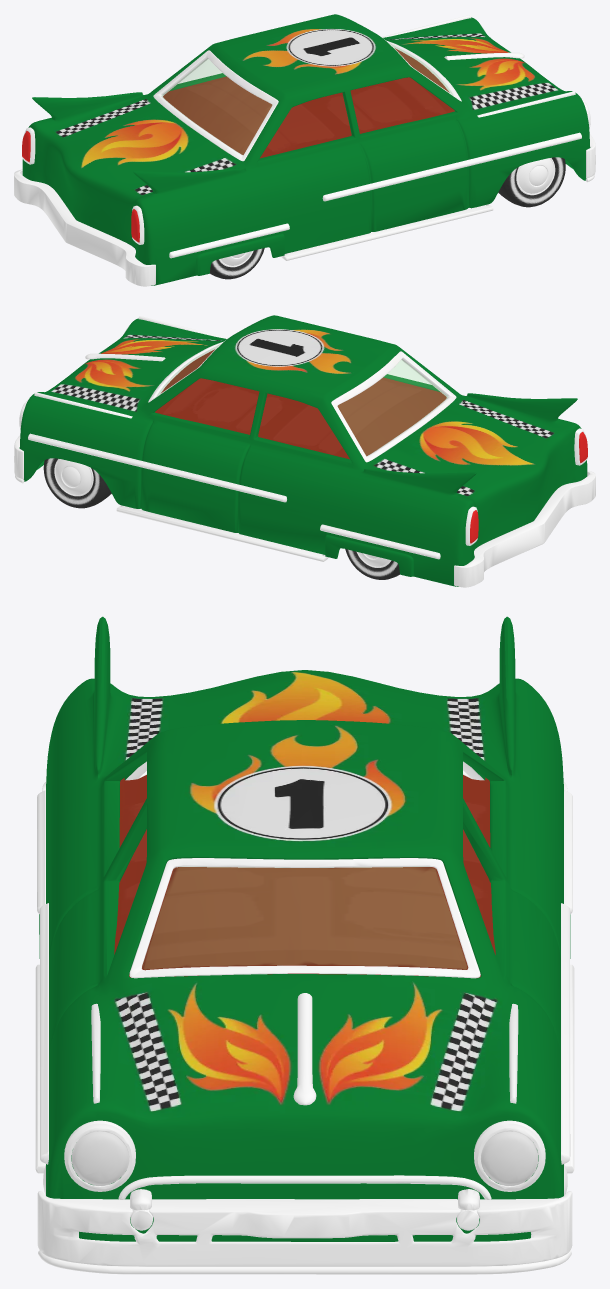
The model's file is racecar.glb.
3 views of the same model, one above another, from view 1: azimuth 30°, elevation 25°; view 2: azimuth 150°, elevation 25°; view 3: azimuth 270°, elevation 25° (orthographic). The views are drawn at different scales.
Parts seen in each view (by area): view 1: body, wheel_FR, wheel_RR; view 2: body, wheel_FL, wheel_RL; view 3: body.
Part boxes in pixels (x1=…): body: x1=14, y1=14, x2=595, y2=286; wheel_FR: x1=498, y1=157, x2=565, y2=207; wheel_RR: x1=209, y1=248, x2=264, y2=279; body: x1=14, y1=315, x2=595, y2=587; wheel_FL: x1=43, y1=458, x2=111, y2=508; wheel_RL: x1=345, y1=549, x2=399, y2=579; body: x1=35, y1=616, x2=574, y2=1274.
Bounding box in the file's own units: 15.77 × 4.78 × 7.69.
Materials: 2 (1 with a texture image).
